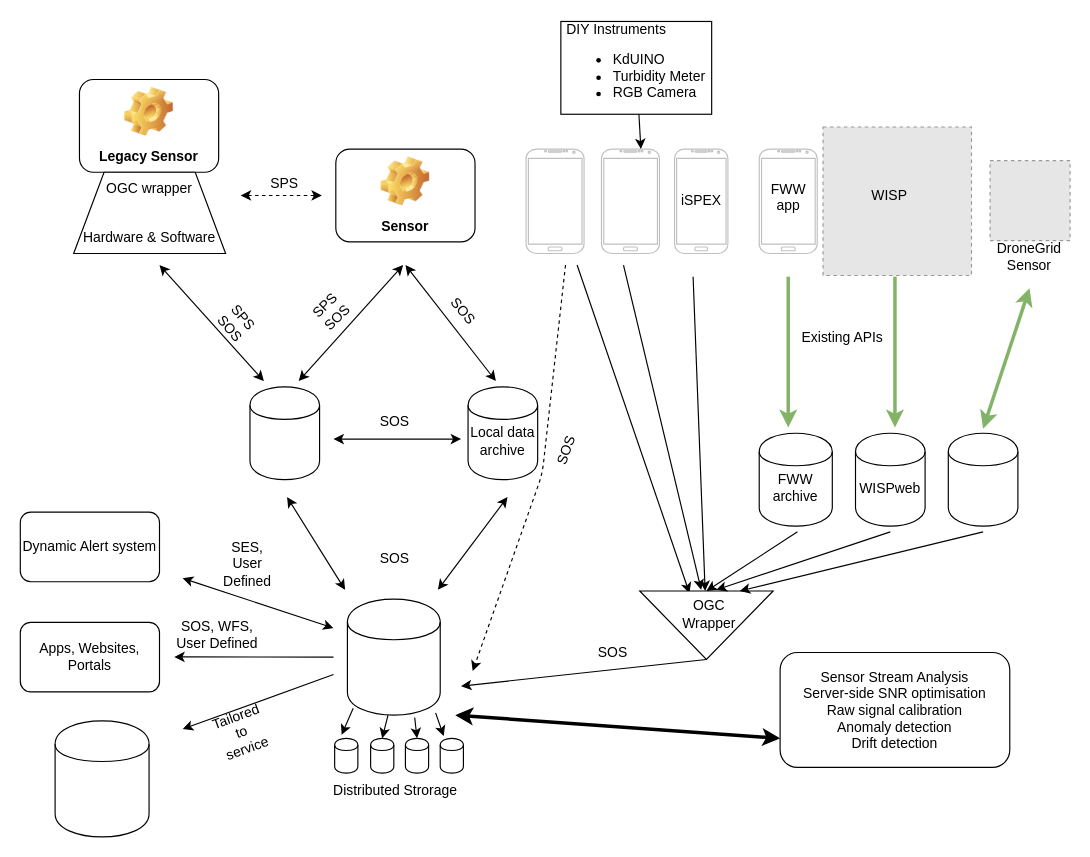
Some shapes in this 1090 by 857 pixel diagram are drawn without their labels. Grey dashed boxes stand in for pictures. Here are the shapes that lost their labels. From the top down, the box of each, then its label:
(525, 148, 584, 253): 3rd Party APP
(600, 148, 659, 253): DIY Control App
(249, 386, 320, 480): sensor platform
(947, 432, 1018, 526): DG Cloud
(346, 598, 440, 715): MONOCLE Backend
(54, 720, 149, 837): GEOSS , EEA, public archives
